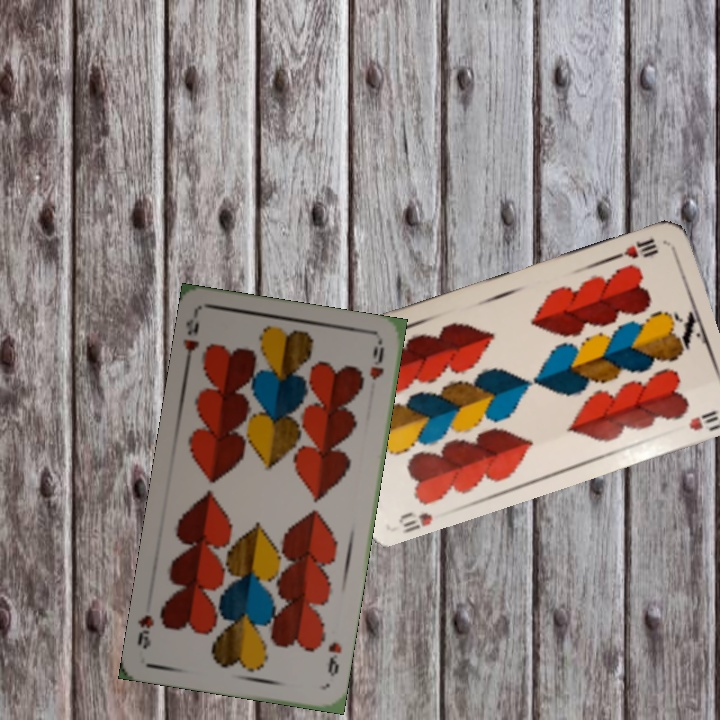H10: (607, 234, 661, 263), (394, 508, 435, 535)
H9: (179, 315, 202, 369), (324, 638, 344, 679)
